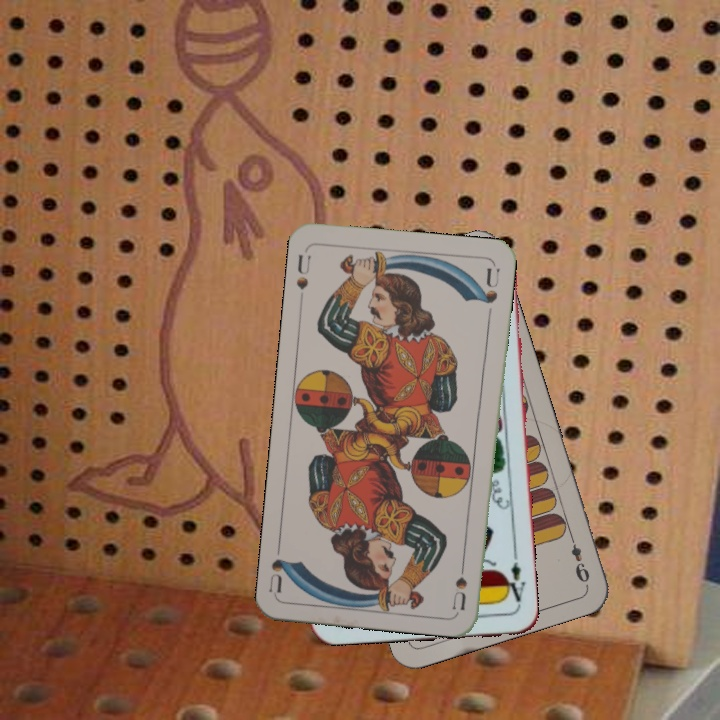E9: (565, 530, 593, 586)
EA: (501, 550, 528, 609)
SU: (448, 552, 470, 612), (292, 251, 313, 292)
